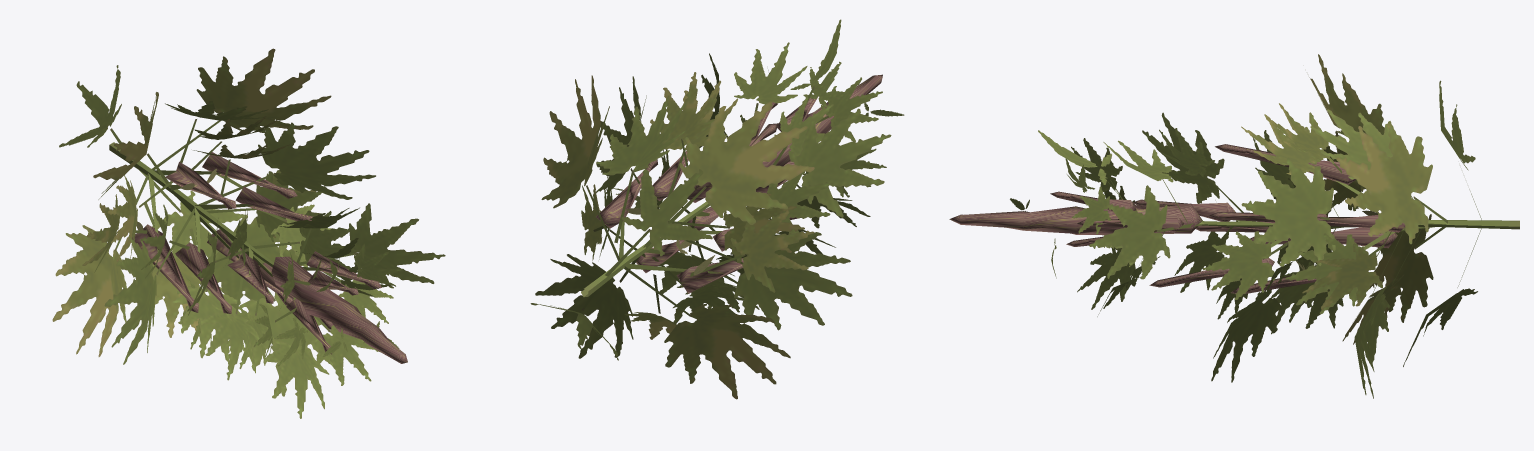
Rendered from p_purple_haze_ripe_c1_cards.obj.
3 renders of one model, left to right at view 1: azimuth 30°, elevation 25°; view 2: azimuth 150°, elevation 25°; view 3: azimuth 270°, elevation 25°, orthographic. The views are drawn at different scales.
Size of the model in its own units: 1.33 by 1.35 by 2.03.
Materials: 1 (1 with a texture image).
